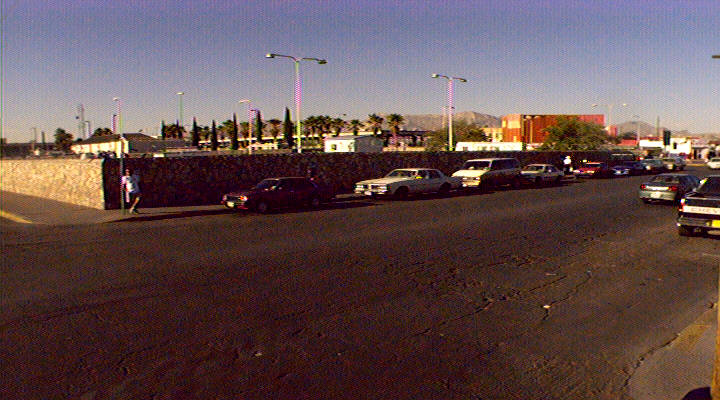Ramp: (18, 204, 121, 227)
